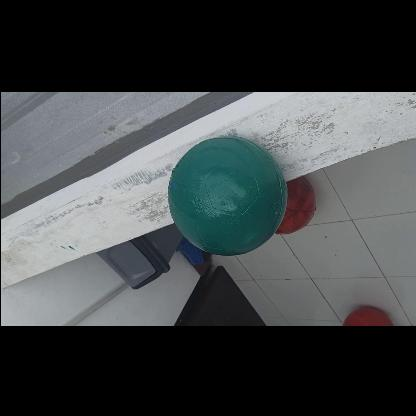green_ball: (167, 138, 284, 254)
